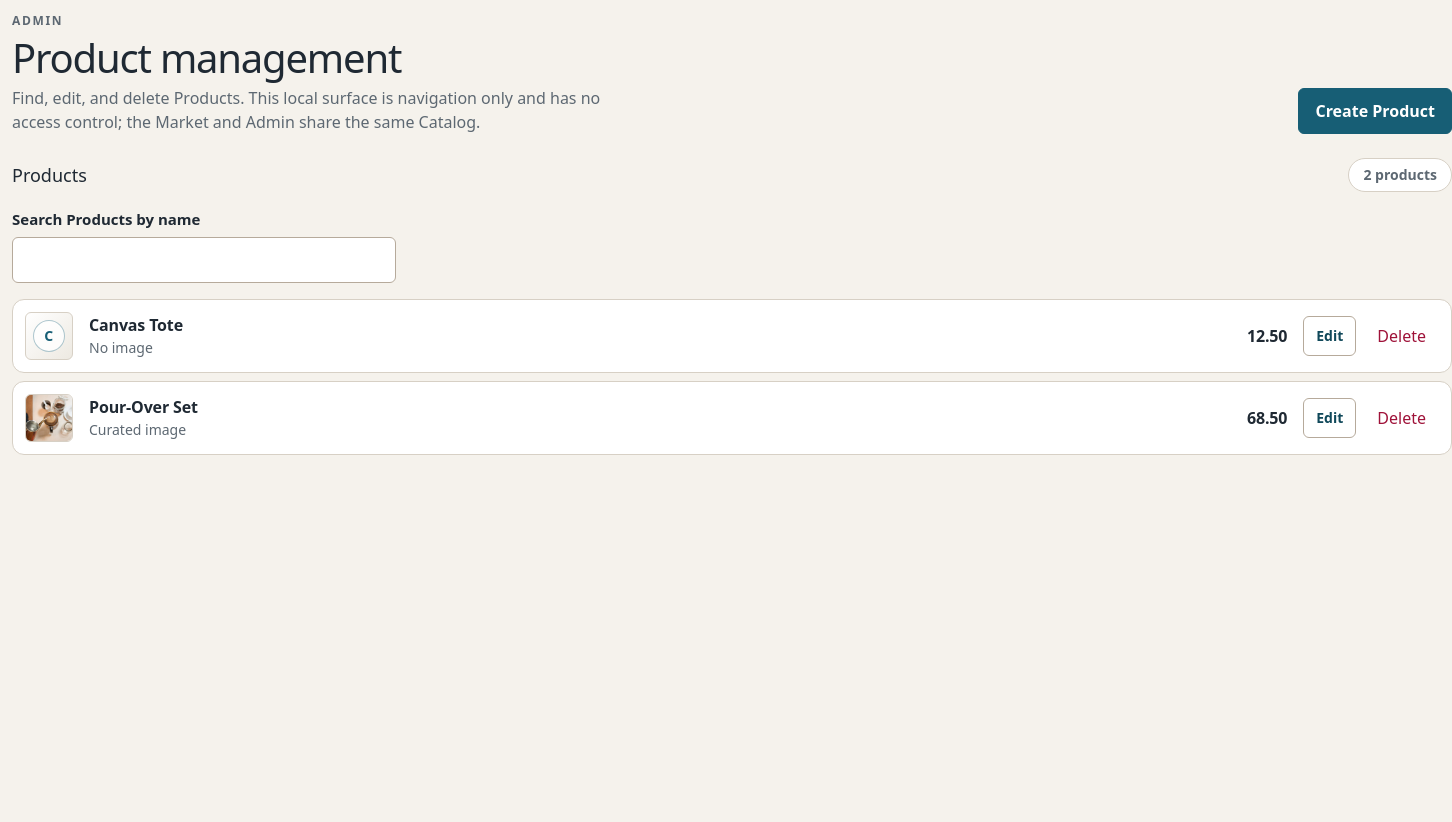
Scenario: AdminProducts › deletes the Product after confirmation and moves focus to the adjacent row
Click the button "Delete" in the row of "12.50" at (1402, 336), box [1364, 316, 1439, 356]
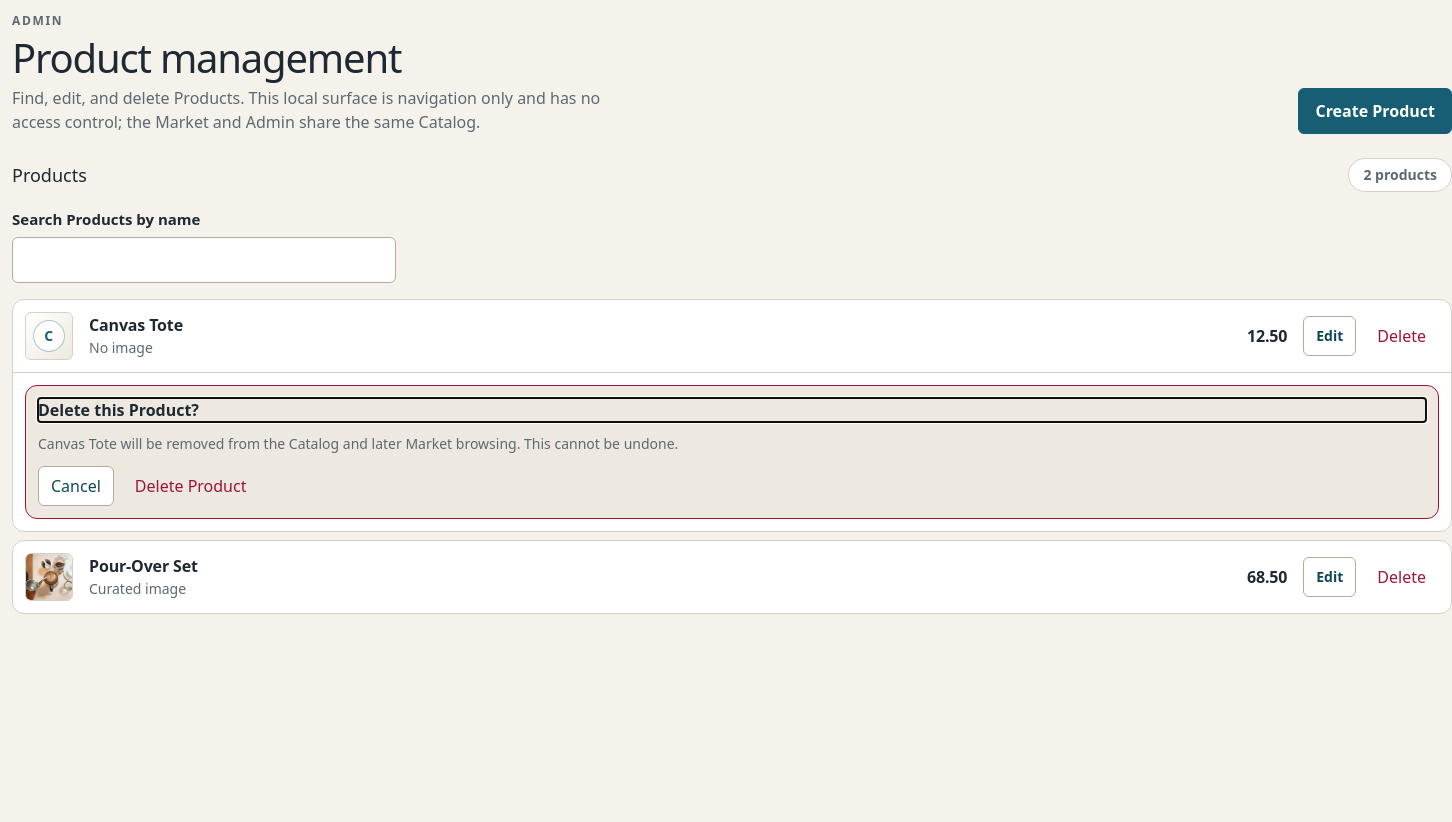
Click the button "Delete Product" at (191, 486), box [122, 466, 260, 506]
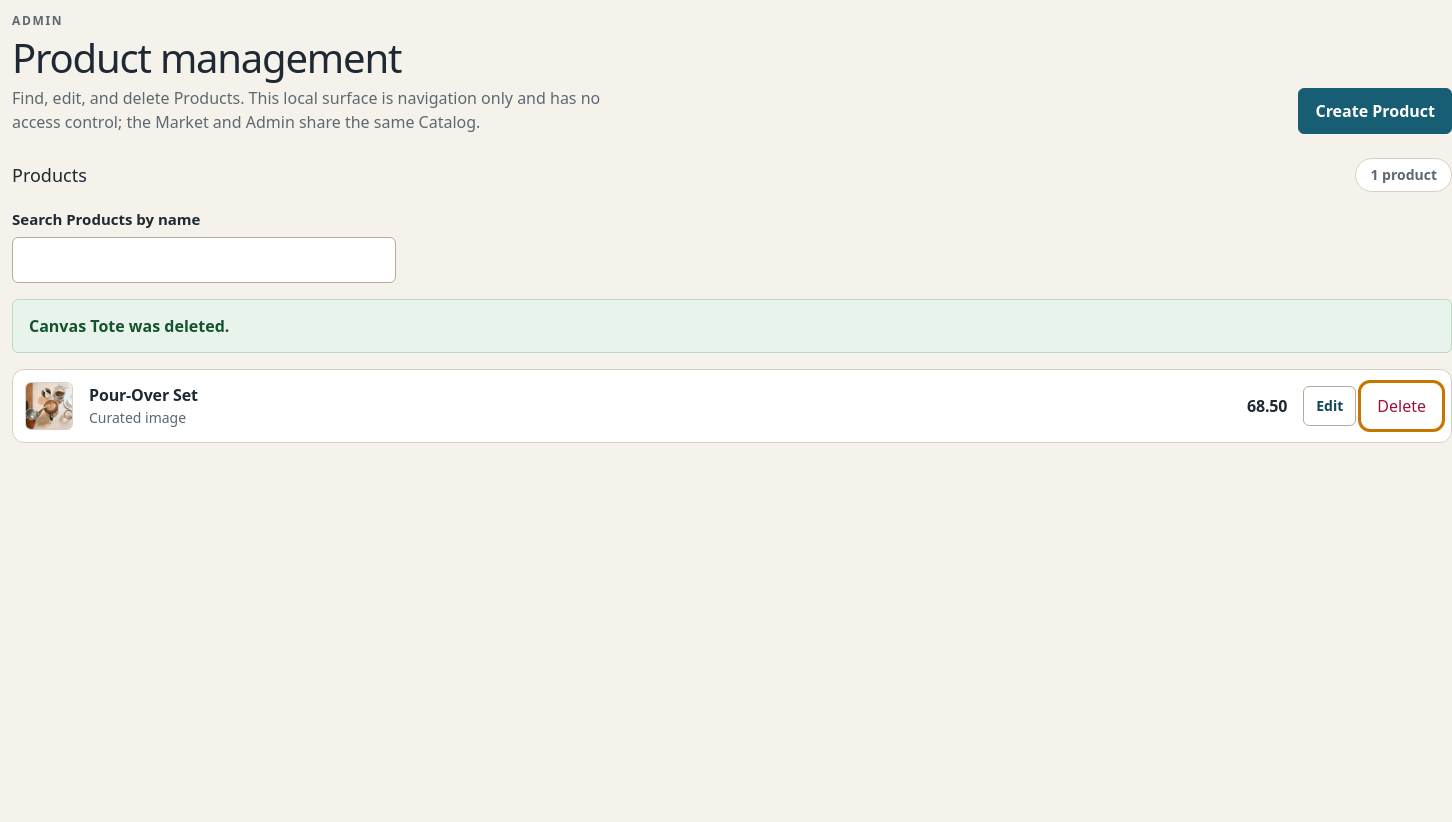
Result: the text "Canvas Tote was deleted." is shown at [12, 298, 1451, 352]
